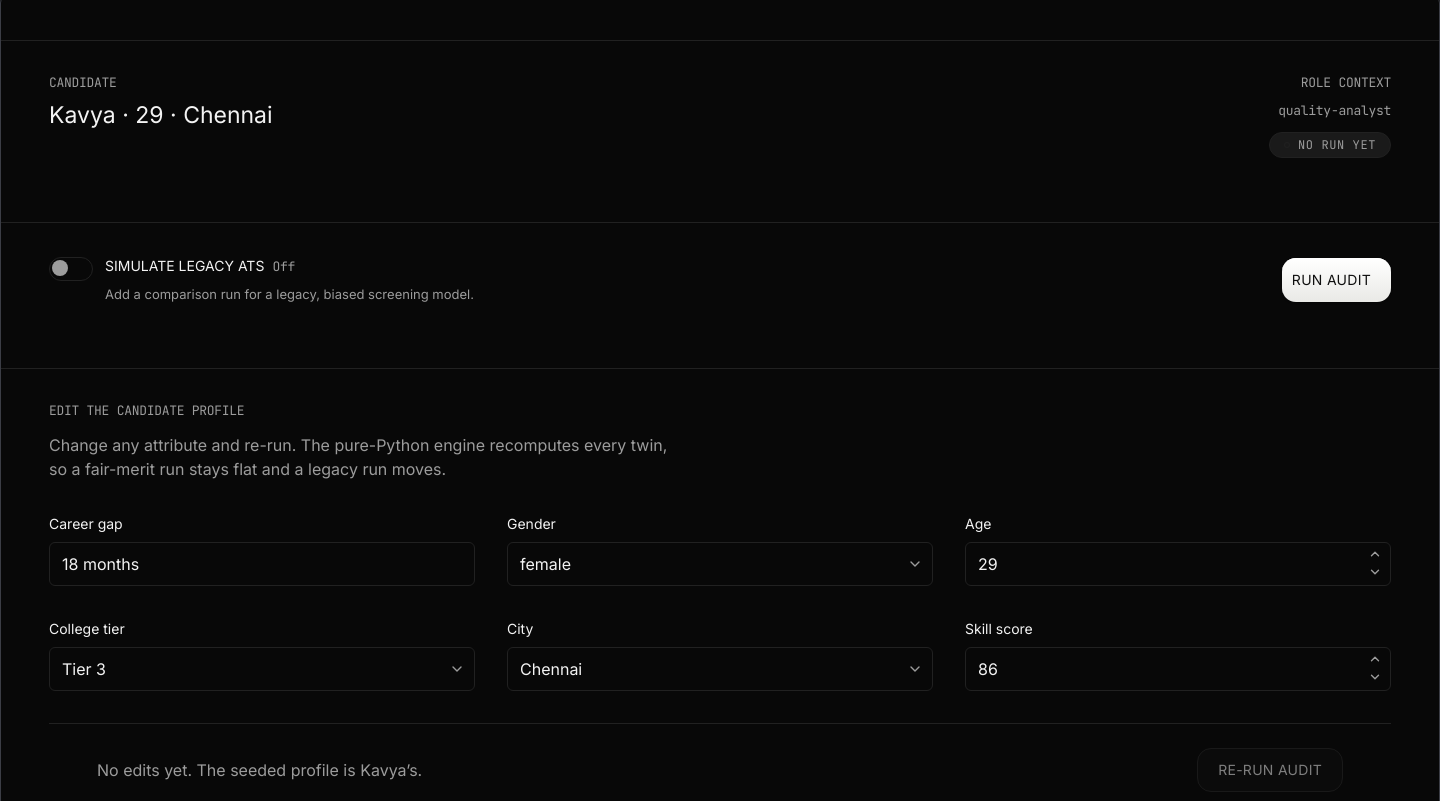
Scenario: GhostTwinPanel › keeps the fair-mode result flat after an edit
Click the button "Run Audit" at (1336, 280), box [1282, 258, 1391, 302]
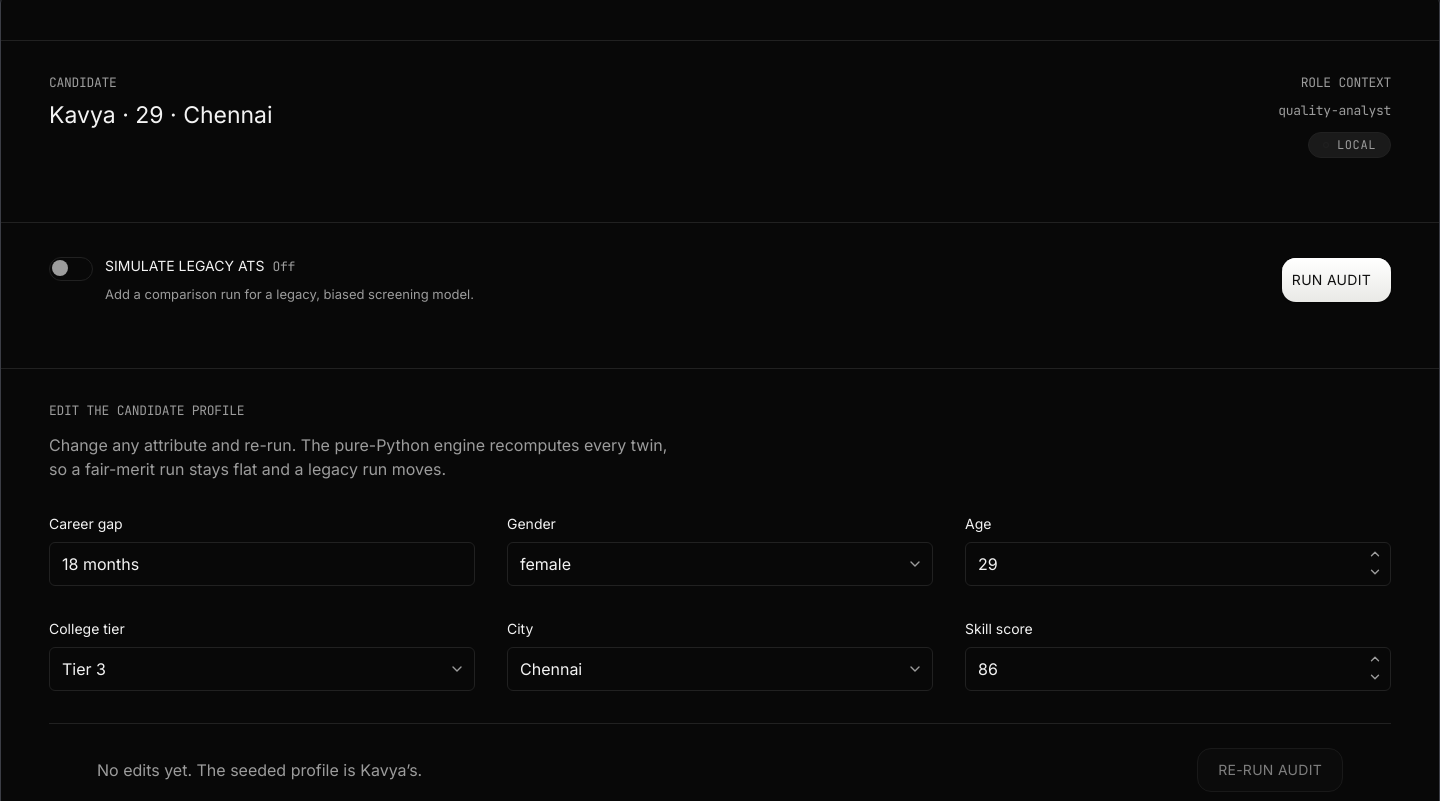
Replace the text in the number field labelled "Age" with "47" at (1178, 564), box [965, 542, 1391, 586]
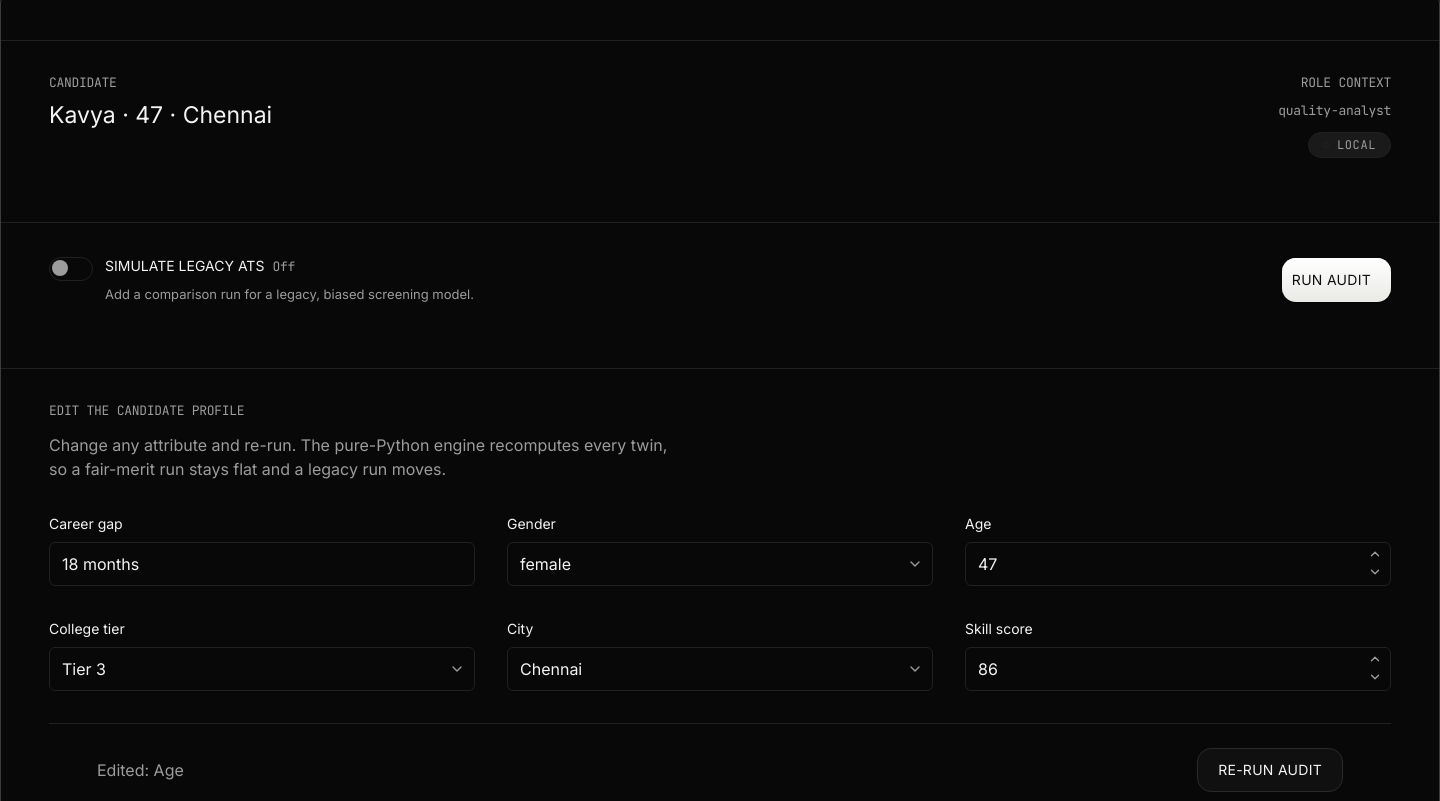
Select "Bengaluru" in the dropdown labelled "City" at (720, 668), box [507, 646, 933, 690]
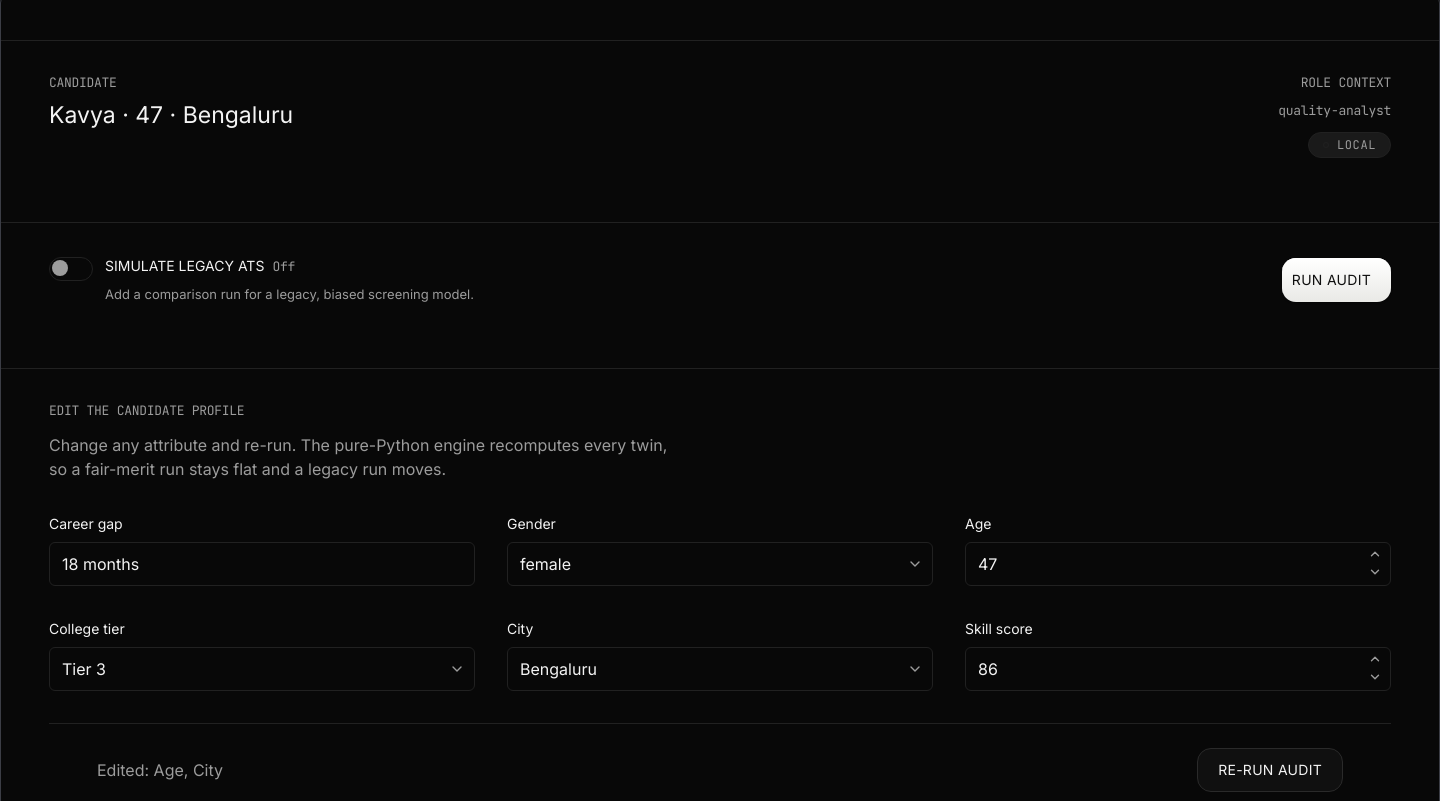
Click the button "Re-run audit" at (1270, 770), box [1197, 748, 1343, 792]
(page scrolled)
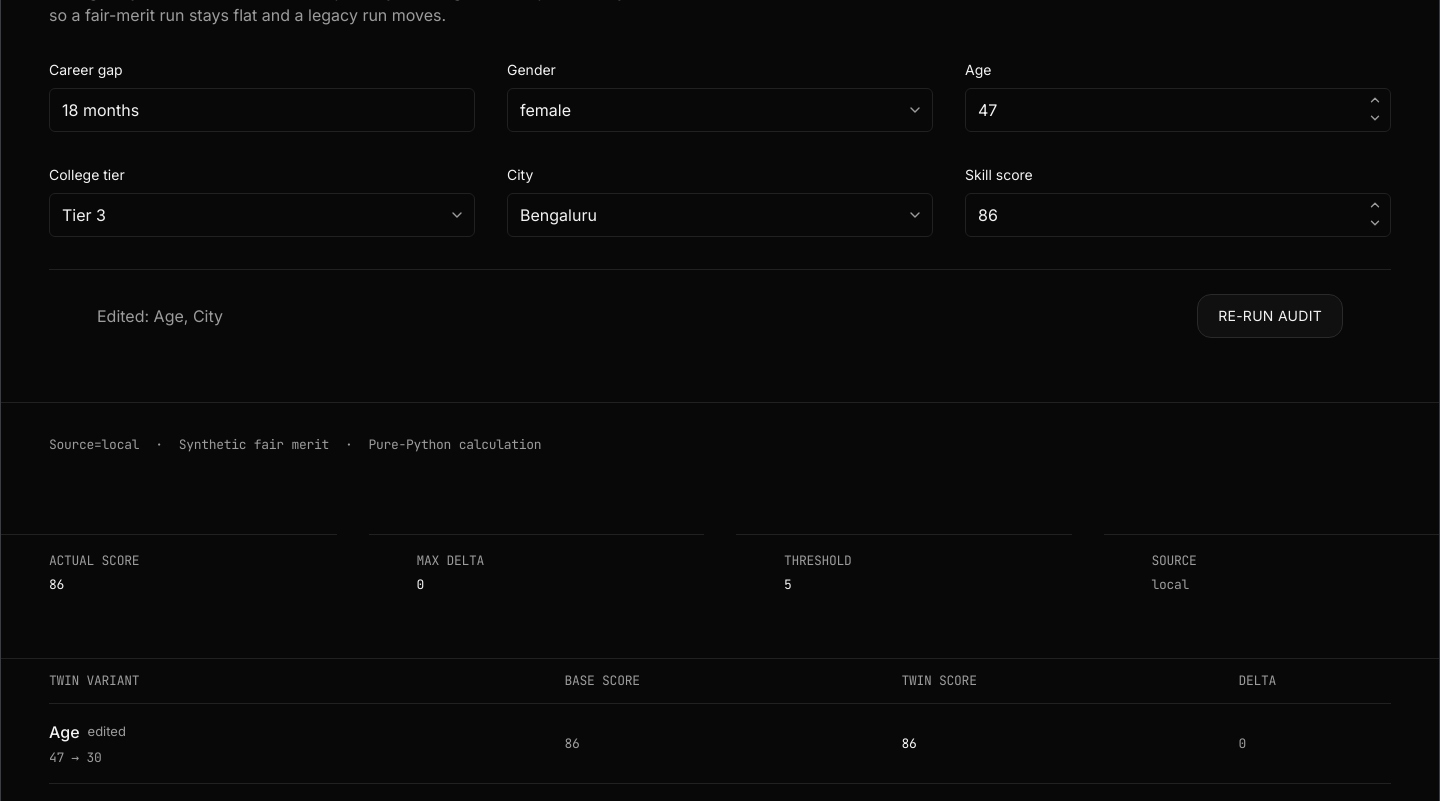
Expected: the 1st cell "86" is shown, [548, 704, 886, 784]
Expected: the 2nd cell "86" is shown, [886, 704, 1222, 784]
Expected: the text "47 → 30" is shown, [49, 748, 102, 766]
